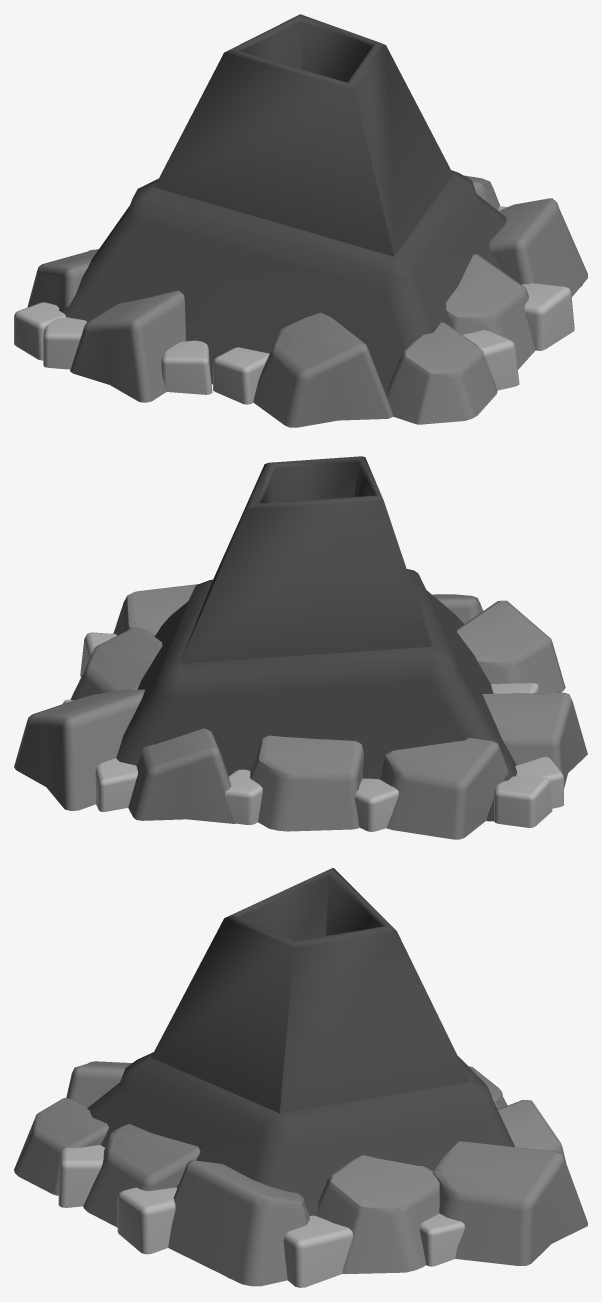
The model's file is SM_Geyser.fbx.
The picture shows the model from 3 angles, top to bottom: view 1: azimuth 30°, elevation 25°; view 2: azimuth 150°, elevation 25°; view 3: azimuth 270°, elevation 25°; orthographic projection. The views are drawn at different scales.
Visible parts, largest first — view 1: polySurface69; view 2: polySurface69; view 3: polySurface69.
Boxes of the visible parts, left/top/right/bottom form: polySurface69: left=14, top=14, right=587, bottom=427; polySurface69: left=14, top=456, right=587, bottom=839; polySurface69: left=14, top=868, right=587, bottom=1287.
Bounding box in the file's own units: 2500 × 1277 × 2495.
Materials: 1 (1 with a texture image).
